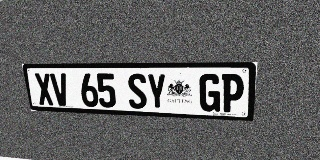5: (96, 73, 117, 108)
6: (79, 73, 99, 107)
G: (199, 74, 221, 112)
P: (221, 74, 245, 113)
S: (127, 73, 147, 109)
V: (50, 73, 70, 106)
X: (34, 73, 54, 105)
Y: (146, 74, 167, 110)
